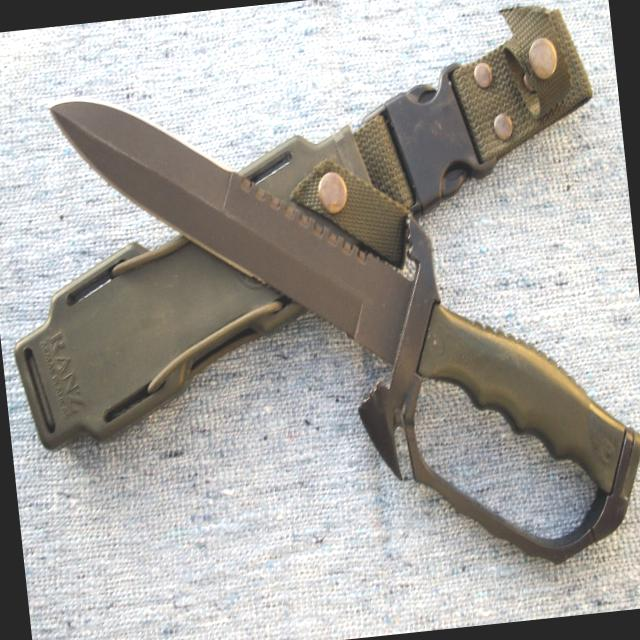knife: (39, 51, 424, 402)
